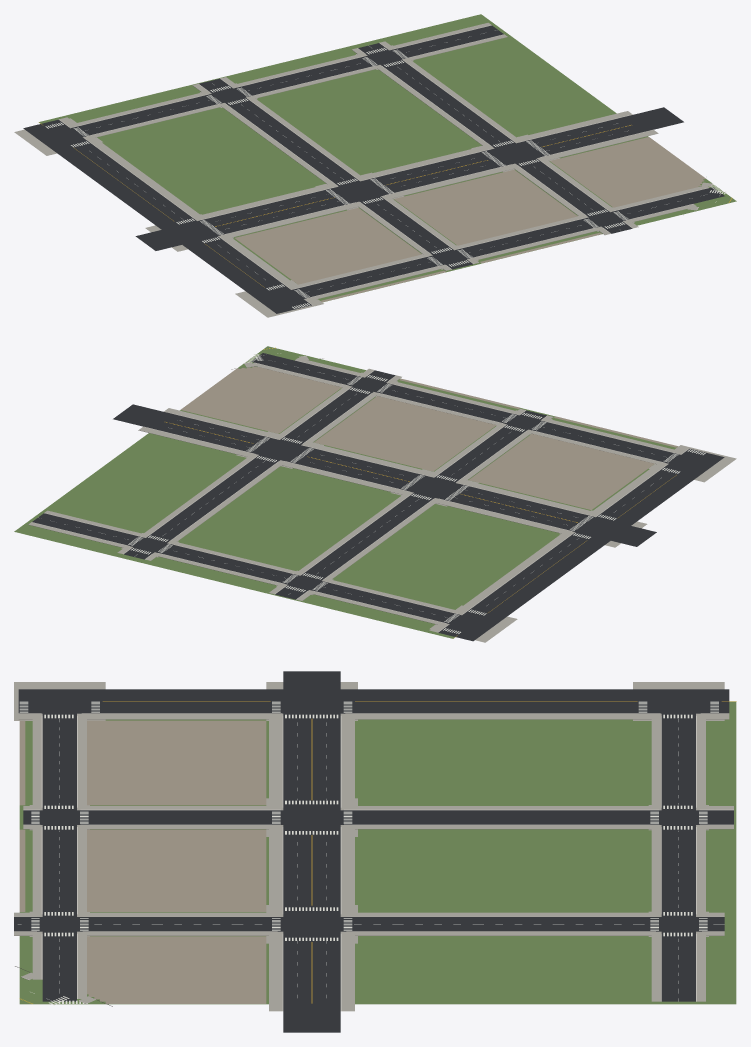
The model's file is Ground_4_5.fbx.
3 renders of one model, top to bottom at view 1: azimuth 30°, elevation 25°; view 2: azimuth 150°, elevation 25°; view 3: azimuth 270°, elevation 25°, orthographic. The views are drawn at different scales.
Visible parts, largest first — view 1: Ground_4_5; view 2: Ground_4_5; view 3: Ground_4_5.
Boxes of the visible parts, bbox=[...] form: Ground_4_5: bbox=[14, 14, 736, 317]; Ground_4_5: bbox=[14, 346, 736, 642]; Ground_4_5: bbox=[14, 671, 736, 1032].
Bounding box in the file's own units: 298 × 0.14 × 252.
